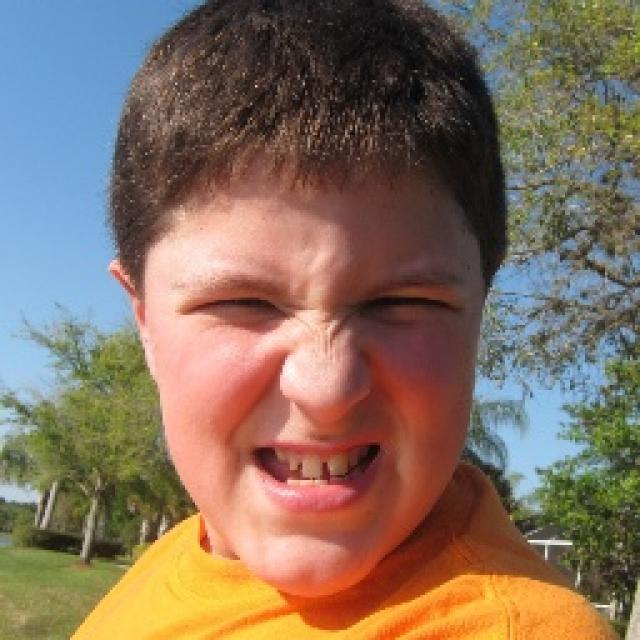earlobe: (146, 356, 162, 384)
eye: (361, 292, 448, 318), (202, 292, 274, 320)
nose: (282, 406, 366, 432)
wholeear: (109, 262, 158, 386)
